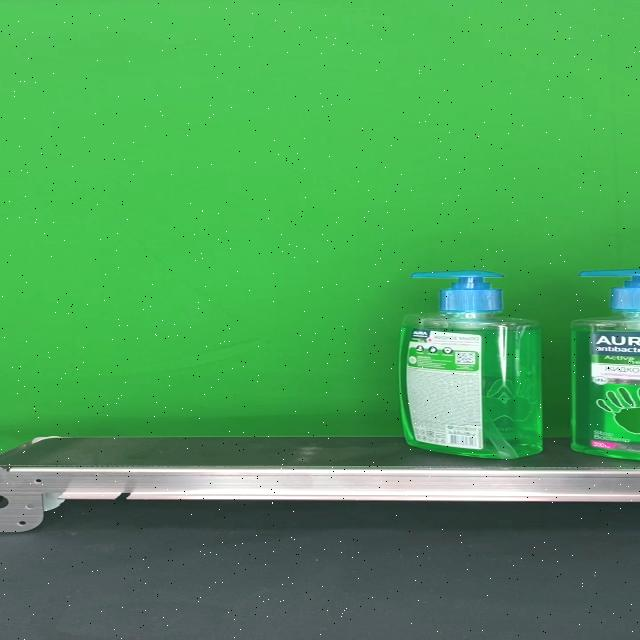Bottle: (398, 271, 544, 459)
Cap: (410, 271, 503, 313)
